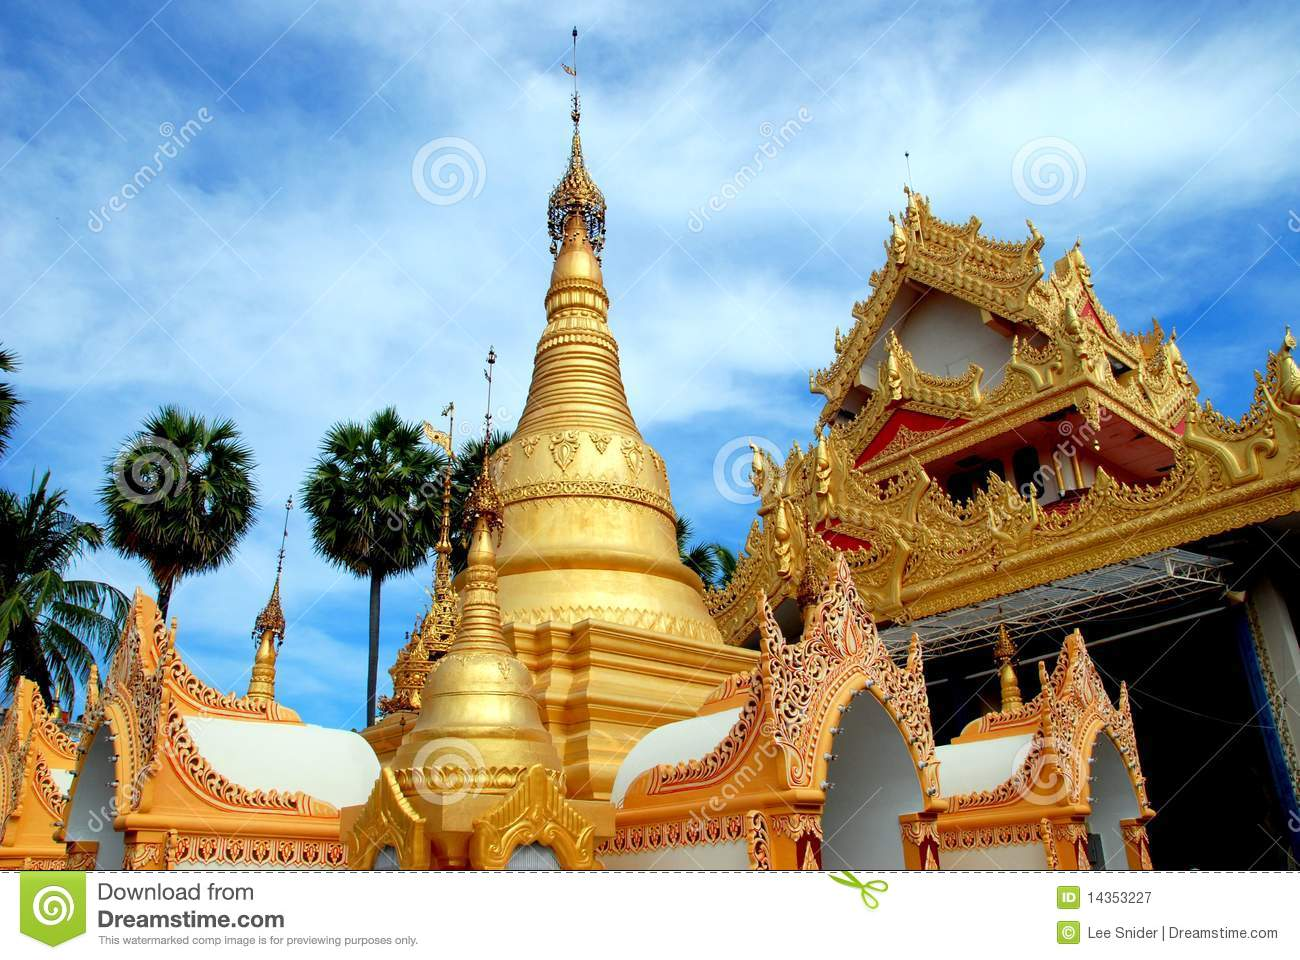Buddhist Temple: (365, 57, 1241, 822)
